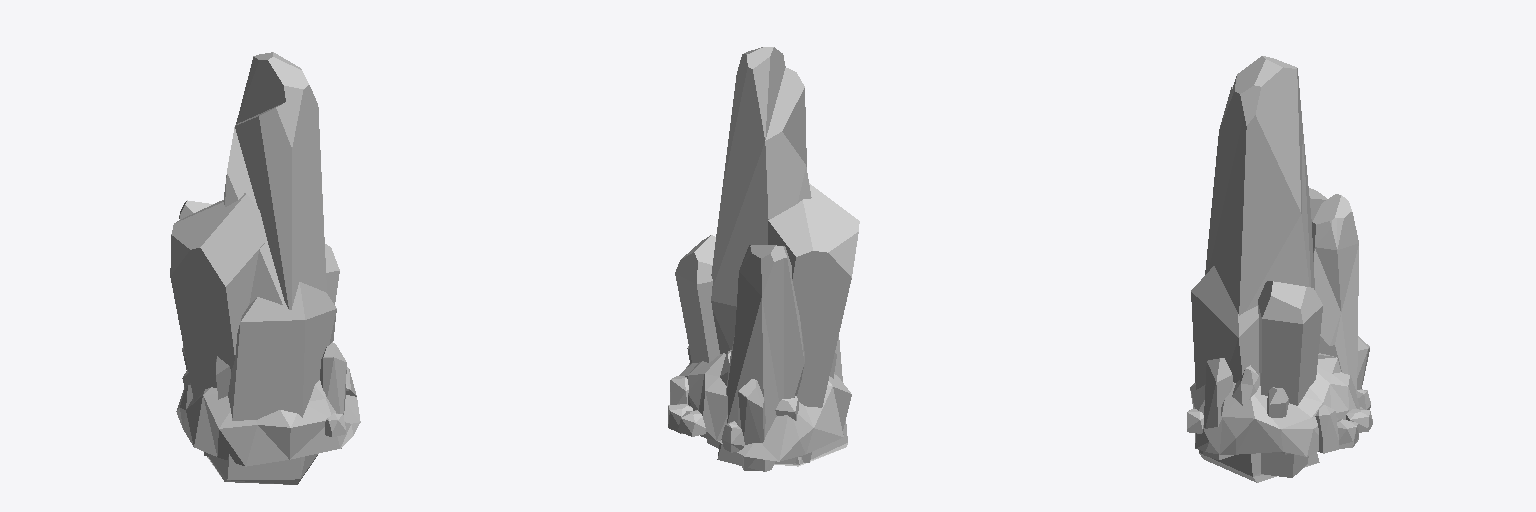
File: Cristal3.obj
3 renders of one model, left to right at view 1: azimuth 30°, elevation 25°; view 2: azimuth 150°, elevation 25°; view 3: azimuth 270°, elevation 25°, orthographic.
Parts seen in each view (by area): view 1: Object_187, Object_193, Object_190, Object_406, Object_205, Object_217; view 2: Object_187, Object_190, Object_220, Object_406, Object_217, Object_196, Object_193, Object_583, Object_571; view 3: Object_187, Object_406, Object_217, Object_220, Object_193, Object_205, Object_589, Object_214, Object_211, Object_586.
Boxes of the visible parts, x1,y1,x2,y2 form: Object_187: [216, 52, 326, 399]; Object_193: [203, 282, 336, 484]; Object_190: [170, 193, 266, 456]; Object_406: [176, 367, 360, 466]; Object_205: [320, 342, 346, 448]; Object_217: [325, 244, 339, 304]; Object_187: [711, 47, 836, 378]; Object_190: [768, 183, 859, 463]; Object_220: [717, 245, 804, 471]; Object_406: [679, 350, 851, 461]; Object_217: [675, 235, 719, 448]; Object_196: [738, 379, 765, 470]; Object_193: [774, 337, 847, 466]; Object_583: [678, 410, 705, 436]; Object_571: [721, 421, 744, 452]; Object_187: [1205, 56, 1314, 315]; Object_406: [1190, 353, 1359, 456]; Object_217: [1258, 281, 1322, 477]; Object_220: [1312, 194, 1358, 393]; Object_193: [1191, 266, 1319, 482]; Object_205: [1203, 358, 1233, 459]; Object_589: [1315, 405, 1338, 453]; Object_214: [1232, 365, 1259, 405]; Object_211: [1267, 387, 1288, 417]; Object_586: [1337, 419, 1358, 448].
Bounding box in the file's own units: 1.13 × 2.58 × 1.08.